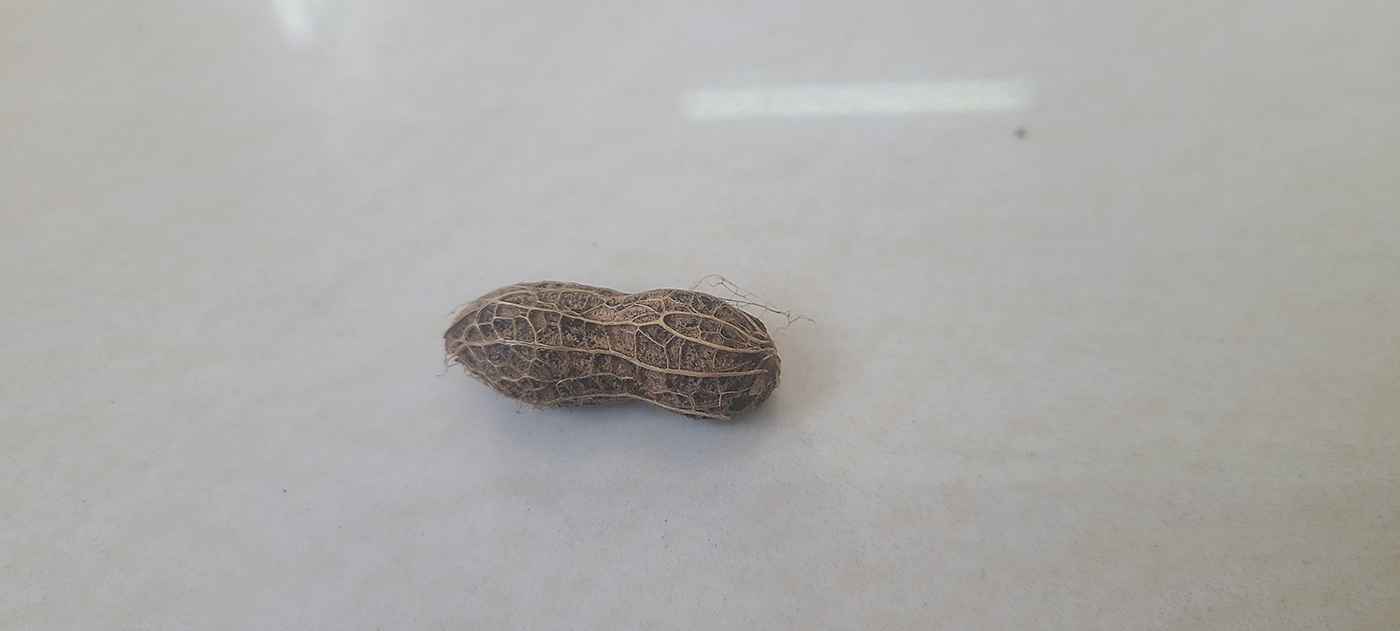l: (443, 282, 781, 424)
